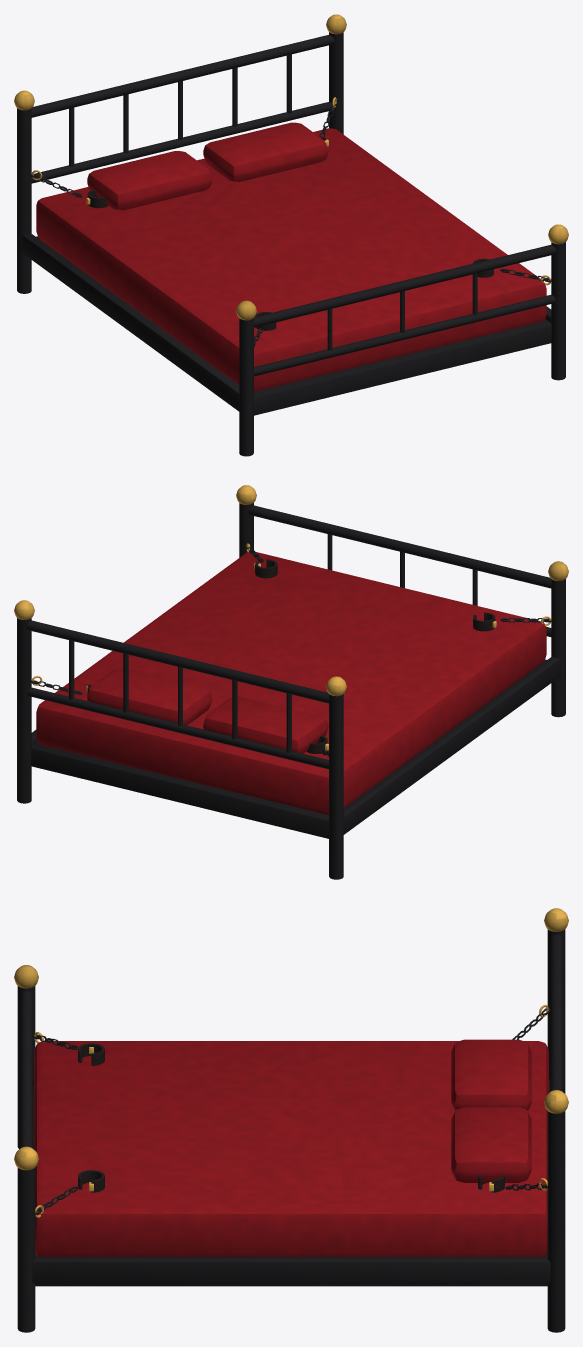
Rendered from Furn_Adult_RestraintBed.fbx.
3 renders of one model, top to bottom at view 1: azimuth 30°, elevation 25°; view 2: azimuth 150°, elevation 25°; view 3: azimuth 270°, elevation 25°, orthographic. The views are drawn at different scales.
Parts seen in each view (by area): view 1: Adult_RestraintBed; view 2: Adult_RestraintBed; view 3: Adult_RestraintBed.
Boxes of the visible parts, <box> form: Adult_RestraintBed: <box>14,14,568,456</box>; Adult_RestraintBed: <box>14,485,568,879</box>; Adult_RestraintBed: <box>14,908,568,1332</box>.
Bounding box in the file's own units: 1.82 × 1.05 × 2.22.
4 materials, 4 textured.
